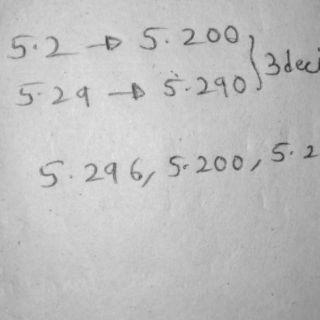.: (162, 37, 171, 45), (31, 43, 38, 49)
0: (222, 23, 241, 44), (231, 152, 246, 173), (232, 74, 247, 94), (212, 153, 227, 173), (205, 26, 221, 44)
2: (43, 31, 82, 59), (178, 21, 203, 47), (82, 159, 105, 183), (51, 83, 72, 105), (193, 152, 213, 174), (301, 139, 320, 161), (195, 74, 213, 96)
3: (261, 48, 282, 77)
5: (39, 158, 66, 190), (14, 79, 41, 109), (8, 29, 33, 61), (138, 25, 163, 52), (162, 76, 185, 99), (270, 138, 289, 164), (167, 153, 184, 179)
6: (129, 157, 144, 181)
9: (74, 84, 93, 109), (213, 76, 230, 99), (104, 159, 119, 185)
